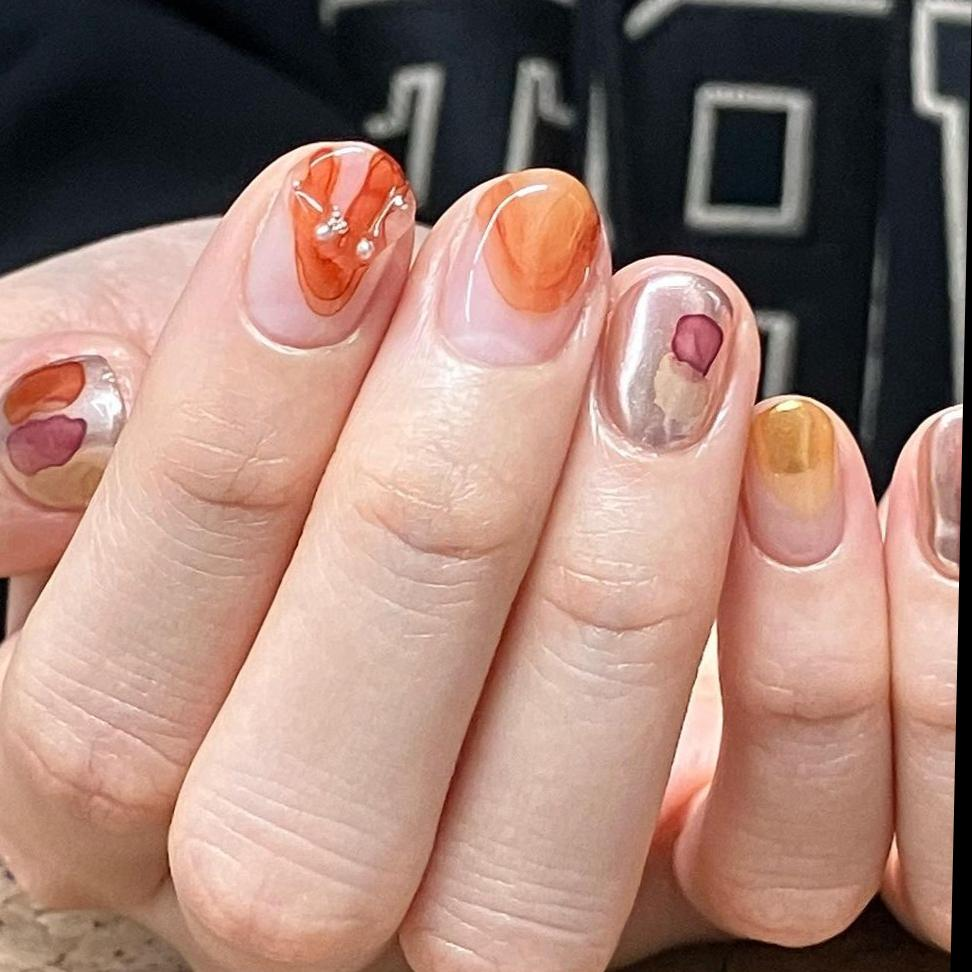nail: (740, 393, 851, 567), (672, 311, 725, 375)
